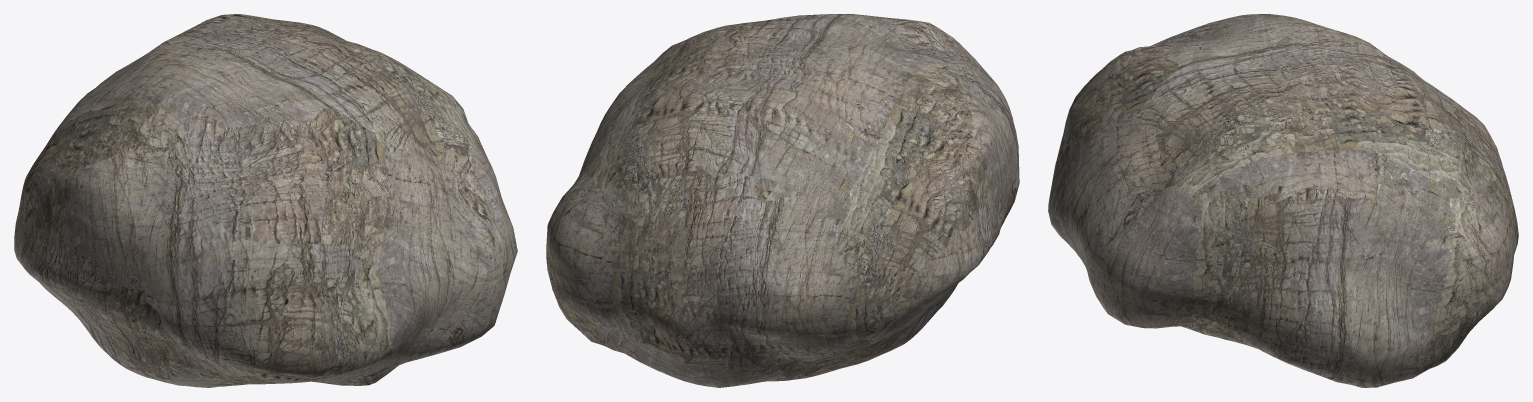
File: stone_b_3.fbx
3 renders of one model, left to right at view 1: azimuth 30°, elevation 25°; view 2: azimuth 150°, elevation 25°; view 3: azimuth 270°, elevation 25°, orthographic. The views are drawn at different scales.
Visible parts, largest first — view 1: Sphere; view 2: Sphere; view 3: Sphere.
Boxes of the visible parts, left/top/right/bottom form: Sphere: left=14, top=14, right=517, bottom=387; Sphere: left=546, top=14, right=1019, bottom=387; Sphere: left=1048, top=14, right=1518, bottom=387.
Bounding box in the file's own units: 2768 × 2057 × 3021.
1 material, 1 textured.
